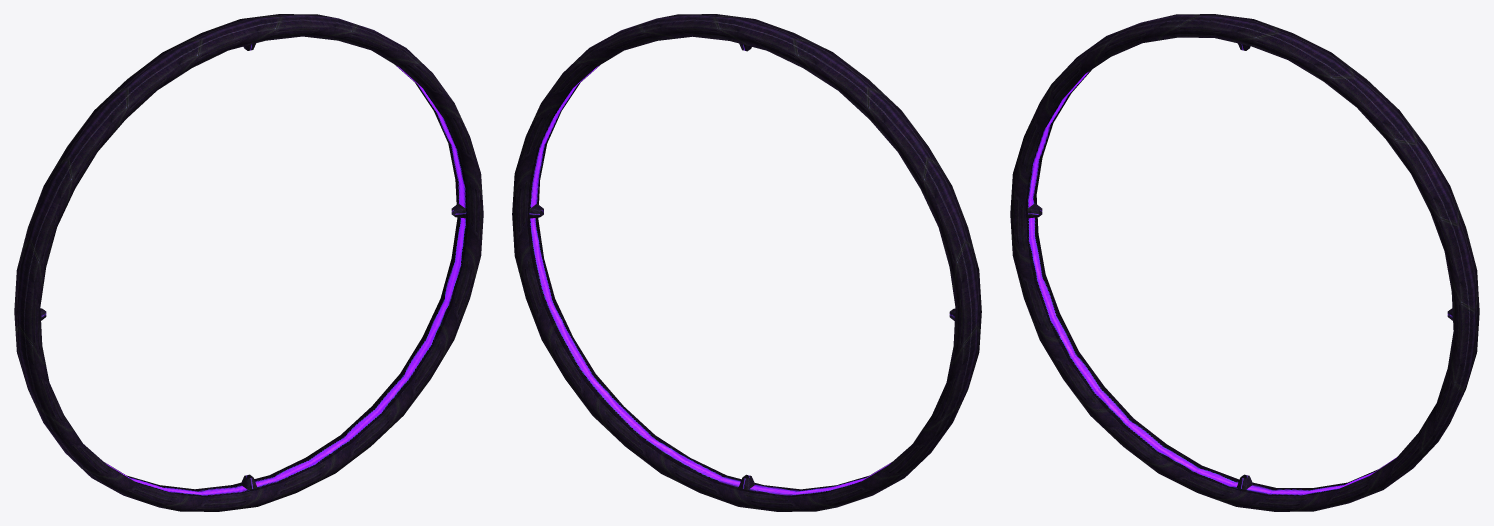
Rendered from ring.glb.
The picture shows the model from 3 angles, left to right: view 1: azimuth 30°, elevation 25°; view 2: azimuth 150°, elevation 25°; view 3: azimuth 330°, elevation 25°; orthographic projection.
Visible parts, largest first — view 1: Object_2; view 2: Object_2; view 3: Object_2.
Boxes of the visible parts, x1,y1,x2,y2 form: Object_2: [14, 14, 483, 511]; Object_2: [512, 14, 981, 511]; Object_2: [1010, 14, 1479, 511].
Size of the model in its own units: 5.43 by 5.44 by 0.3624.
1 material, 1 textured.
